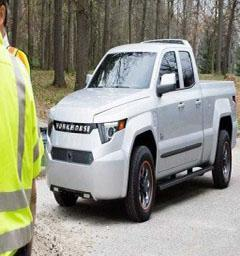car: (19, 29, 240, 221)
